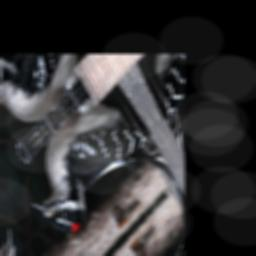Woodpecker: (12, 65, 177, 256)
